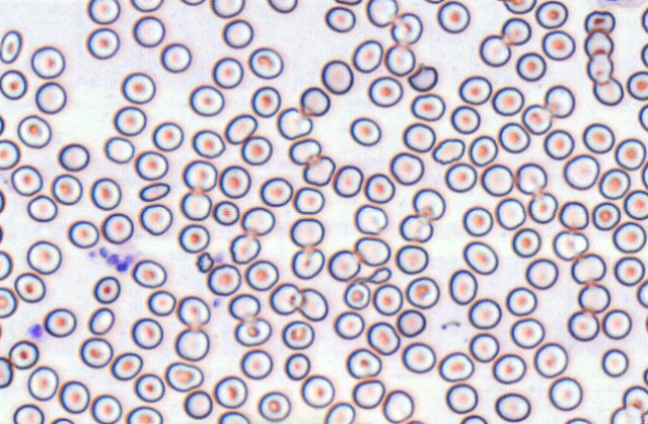PLT: (28, 322, 45, 341), (113, 260, 128, 273), (97, 245, 109, 258), (106, 253, 118, 266)
RBC: (562, 153, 599, 190), (533, 342, 568, 378), (462, 240, 498, 275), (276, 106, 312, 140), (26, 240, 62, 274), (164, 361, 203, 392), (174, 327, 209, 361), (300, 374, 335, 408), (548, 376, 582, 411), (389, 151, 424, 185), (30, 45, 65, 79), (366, 321, 400, 355), (17, 114, 51, 148), (268, 282, 303, 315), (206, 263, 241, 296), (182, 159, 217, 192), (320, 59, 353, 94), (248, 46, 283, 79), (345, 347, 381, 379), (27, 365, 59, 401), (570, 252, 606, 284), (552, 229, 588, 261), (367, 75, 403, 107), (354, 235, 391, 266), (437, 351, 474, 382), (233, 316, 271, 346), (213, 375, 247, 408), (381, 389, 414, 423), (390, 11, 423, 45), (218, 164, 251, 198), (405, 276, 439, 309), (480, 163, 514, 196), (436, 0, 470, 33), (121, 71, 155, 104), (290, 247, 325, 279), (244, 259, 279, 291), (353, 203, 388, 235), (189, 84, 224, 116), (509, 317, 545, 348), (412, 187, 445, 220), (478, 34, 511, 67), (176, 295, 210, 327), (257, 390, 291, 422), (79, 336, 113, 368), (58, 380, 90, 414), (467, 297, 501, 329), (401, 341, 435, 373), (524, 257, 558, 289), (612, 221, 646, 253), (139, 203, 173, 235), (351, 39, 383, 73), (86, 27, 120, 59), (491, 353, 526, 384), (494, 392, 530, 422), (131, 258, 167, 288), (448, 268, 477, 305), (327, 249, 360, 281), (302, 154, 335, 186), (130, 317, 163, 349), (445, 382, 478, 414), (384, 43, 416, 76), (514, 162, 547, 194), (101, 212, 134, 244), (497, 121, 530, 153), (494, 197, 526, 230), (10, 164, 43, 196), (614, 137, 646, 170), (34, 81, 66, 114), (132, 15, 165, 47), (297, 287, 328, 321), (351, 378, 385, 409), (239, 348, 273, 379), (259, 176, 293, 207), (544, 84, 575, 118), (398, 213, 433, 243), (240, 206, 275, 236), (289, 217, 324, 247), (567, 309, 599, 341), (598, 167, 630, 199), (50, 173, 82, 205), (211, 56, 243, 88), (577, 282, 610, 313), (224, 113, 257, 144), (332, 164, 363, 197), (90, 177, 121, 210), (113, 105, 146, 136), (134, 150, 168, 180), (458, 75, 492, 105), (541, 30, 575, 60), (410, 92, 445, 121), (229, 233, 261, 264), (372, 283, 403, 315), (521, 103, 552, 135), (363, 172, 395, 203), (14, 272, 46, 303), (613, 255, 645, 286), (543, 128, 574, 160), (250, 85, 281, 117), (159, 42, 191, 73), (582, 122, 614, 153), (110, 351, 143, 381), (527, 190, 557, 223), (395, 244, 428, 274), (444, 162, 477, 192), (43, 307, 76, 337), (402, 122, 435, 152), (491, 86, 524, 116), (191, 129, 225, 158), (180, 190, 211, 221), (299, 86, 330, 117), (462, 205, 493, 236), (601, 308, 632, 339), (592, 76, 624, 106), (133, 372, 165, 402), (90, 393, 122, 423), (178, 223, 210, 253), (505, 286, 537, 316), (240, 135, 272, 165), (349, 116, 381, 146), (151, 121, 183, 151), (221, 18, 253, 48), (468, 134, 498, 166), (281, 320, 314, 349), (57, 142, 90, 171), (535, 0, 568, 29), (468, 332, 499, 362), (8, 339, 39, 369), (558, 200, 589, 230), (515, 51, 546, 81), (67, 219, 99, 248), (288, 137, 321, 165), (431, 137, 465, 164), (183, 389, 213, 419), (511, 227, 541, 257), (450, 104, 480, 134), (333, 310, 364, 339), (103, 135, 134, 164), (228, 293, 260, 321), (292, 186, 324, 214), (365, 0, 398, 27), (396, 308, 426, 337), (584, 28, 613, 58), (26, 194, 57, 222), (500, 17, 531, 45), (586, 51, 613, 83), (591, 201, 620, 230), (342, 280, 370, 310), (0, 69, 27, 100), (324, 5, 355, 32), (87, 306, 115, 335), (92, 275, 120, 304), (600, 348, 628, 377), (87, 0, 120, 24), (147, 289, 176, 316), (584, 9, 615, 34), (283, 352, 310, 380), (0, 29, 22, 63), (623, 189, 647, 220), (323, 401, 355, 423), (622, 385, 647, 413), (212, 200, 239, 225), (138, 181, 170, 202), (126, 405, 163, 423), (12, 403, 44, 423), (626, 70, 647, 100), (210, 0, 245, 18), (0, 138, 20, 169), (609, 406, 641, 423), (0, 286, 17, 318), (503, 0, 536, 14), (217, 410, 250, 423), (129, 0, 164, 12), (0, 356, 13, 388), (266, 0, 297, 13), (597, 0, 646, 8), (0, 250, 12, 280), (636, 278, 647, 308), (638, 102, 647, 131), (459, 414, 487, 423), (641, 160, 648, 189), (563, 416, 592, 423), (641, 6, 648, 33), (640, 42, 647, 68), (179, 0, 206, 6), (49, 417, 75, 423), (333, 0, 362, 5), (0, 188, 5, 213), (642, 366, 648, 386), (403, 418, 426, 423), (0, 112, 5, 135), (644, 311, 648, 334), (640, 410, 647, 423), (423, 0, 445, 4), (0, 222, 4, 243), (0, 319, 3, 341)
Schistocyte: (407, 66, 437, 92), (360, 267, 392, 282), (196, 253, 215, 275)
